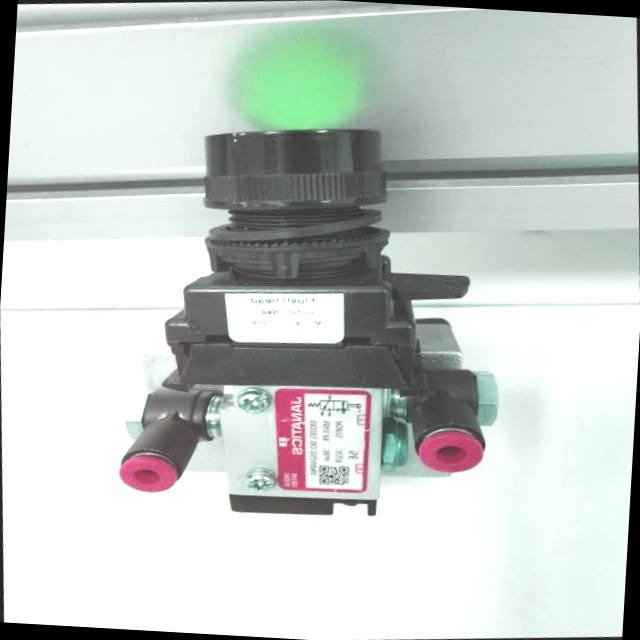push button: (90, 103, 522, 541)
